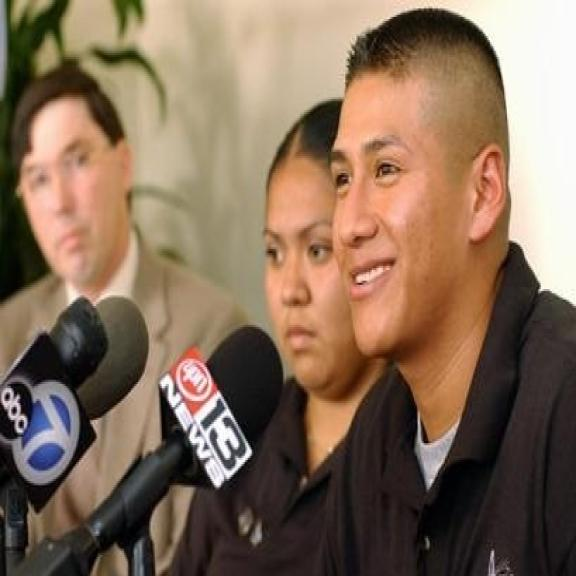face: (330, 8, 516, 361), (258, 137, 358, 403), (9, 97, 138, 293)
